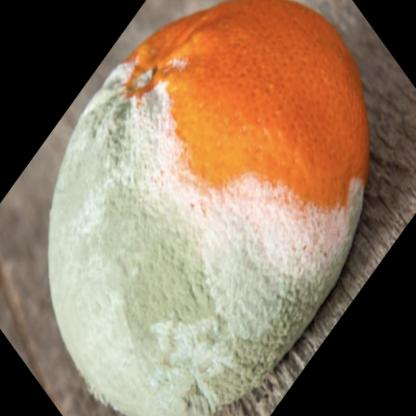rotten: (48, 1, 369, 416)
